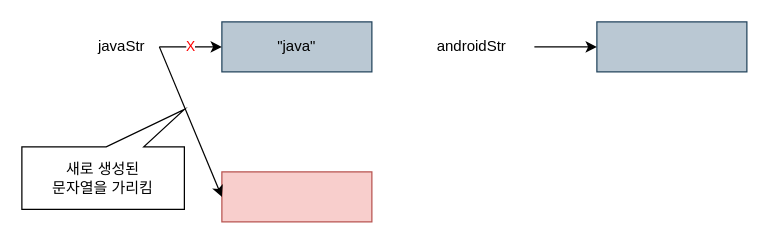
Image size: 769x244. Some labels were removed from this diagram. The shapes that lost their labels are listed below. From the top down, each one's centre as x and y in pixels, then its label:
point (671, 46): "android"
point (296, 196): "javaandroid"
